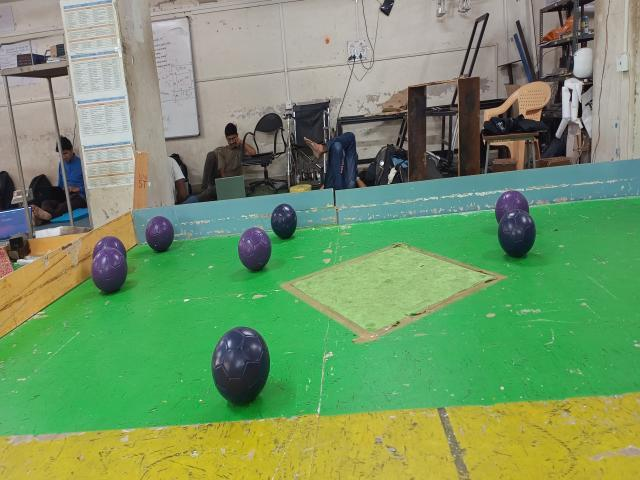jambhalya: (91, 248, 128, 293), (239, 227, 271, 272), (495, 190, 529, 223), (145, 217, 174, 252), (92, 235, 126, 260)
kaalyya: (211, 327, 270, 405), (498, 210, 536, 258), (271, 203, 298, 238)
